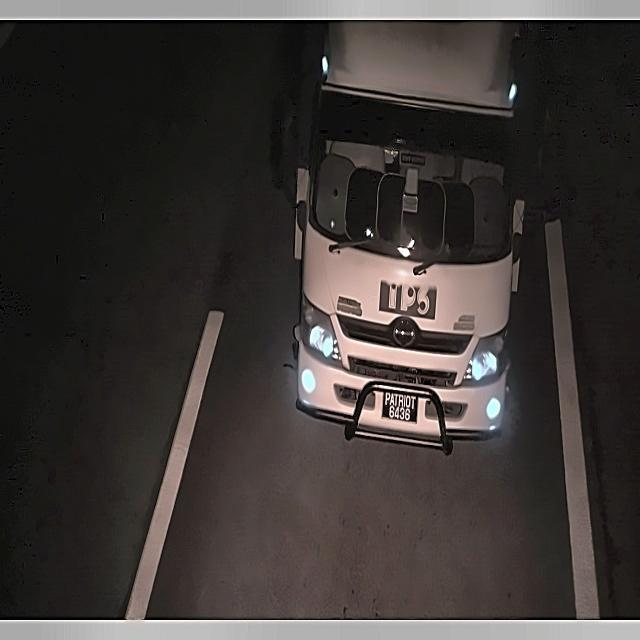car: (378, 379, 422, 434)
